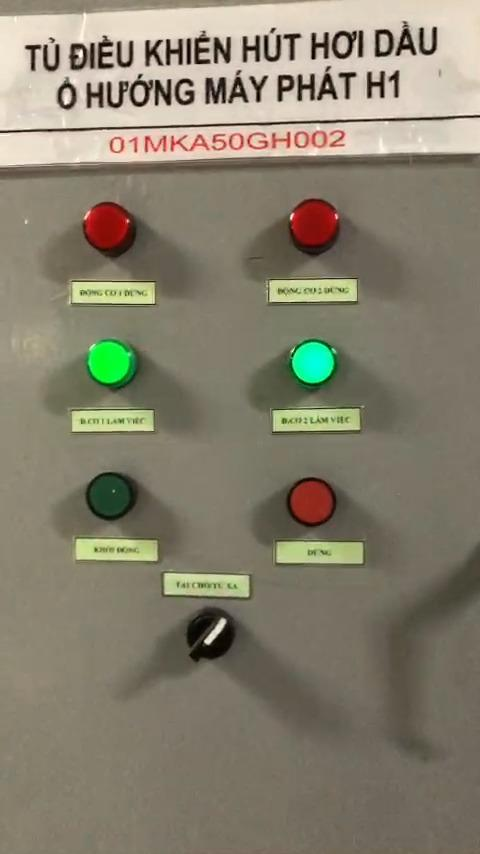led: (77, 198, 139, 258), (76, 334, 139, 390), (282, 336, 338, 391), (81, 466, 135, 523), (285, 198, 341, 252), (280, 475, 335, 528)
twist: (174, 608, 239, 666)
